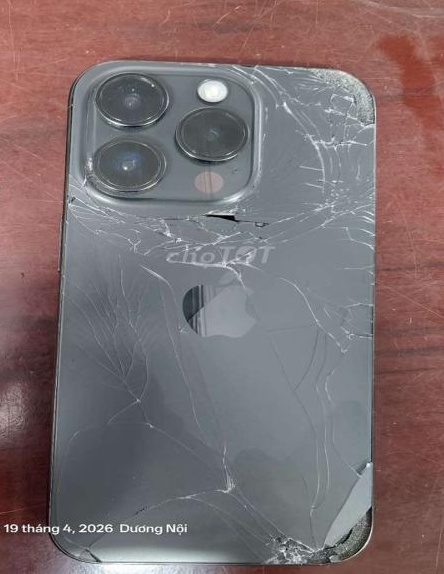physical_damage: (186, 248, 326, 327), (56, 184, 180, 253), (299, 156, 384, 253), (210, 478, 303, 562), (133, 402, 222, 485), (43, 355, 137, 430), (127, 345, 239, 406), (188, 192, 295, 253), (216, 46, 318, 108), (58, 299, 177, 352), (61, 254, 180, 296), (104, 490, 225, 531), (294, 332, 353, 415), (328, 257, 389, 337), (46, 428, 104, 505), (283, 417, 370, 467), (301, 515, 384, 566), (321, 63, 381, 130), (51, 529, 144, 571), (263, 104, 331, 161), (305, 471, 383, 512), (331, 126, 386, 175)
